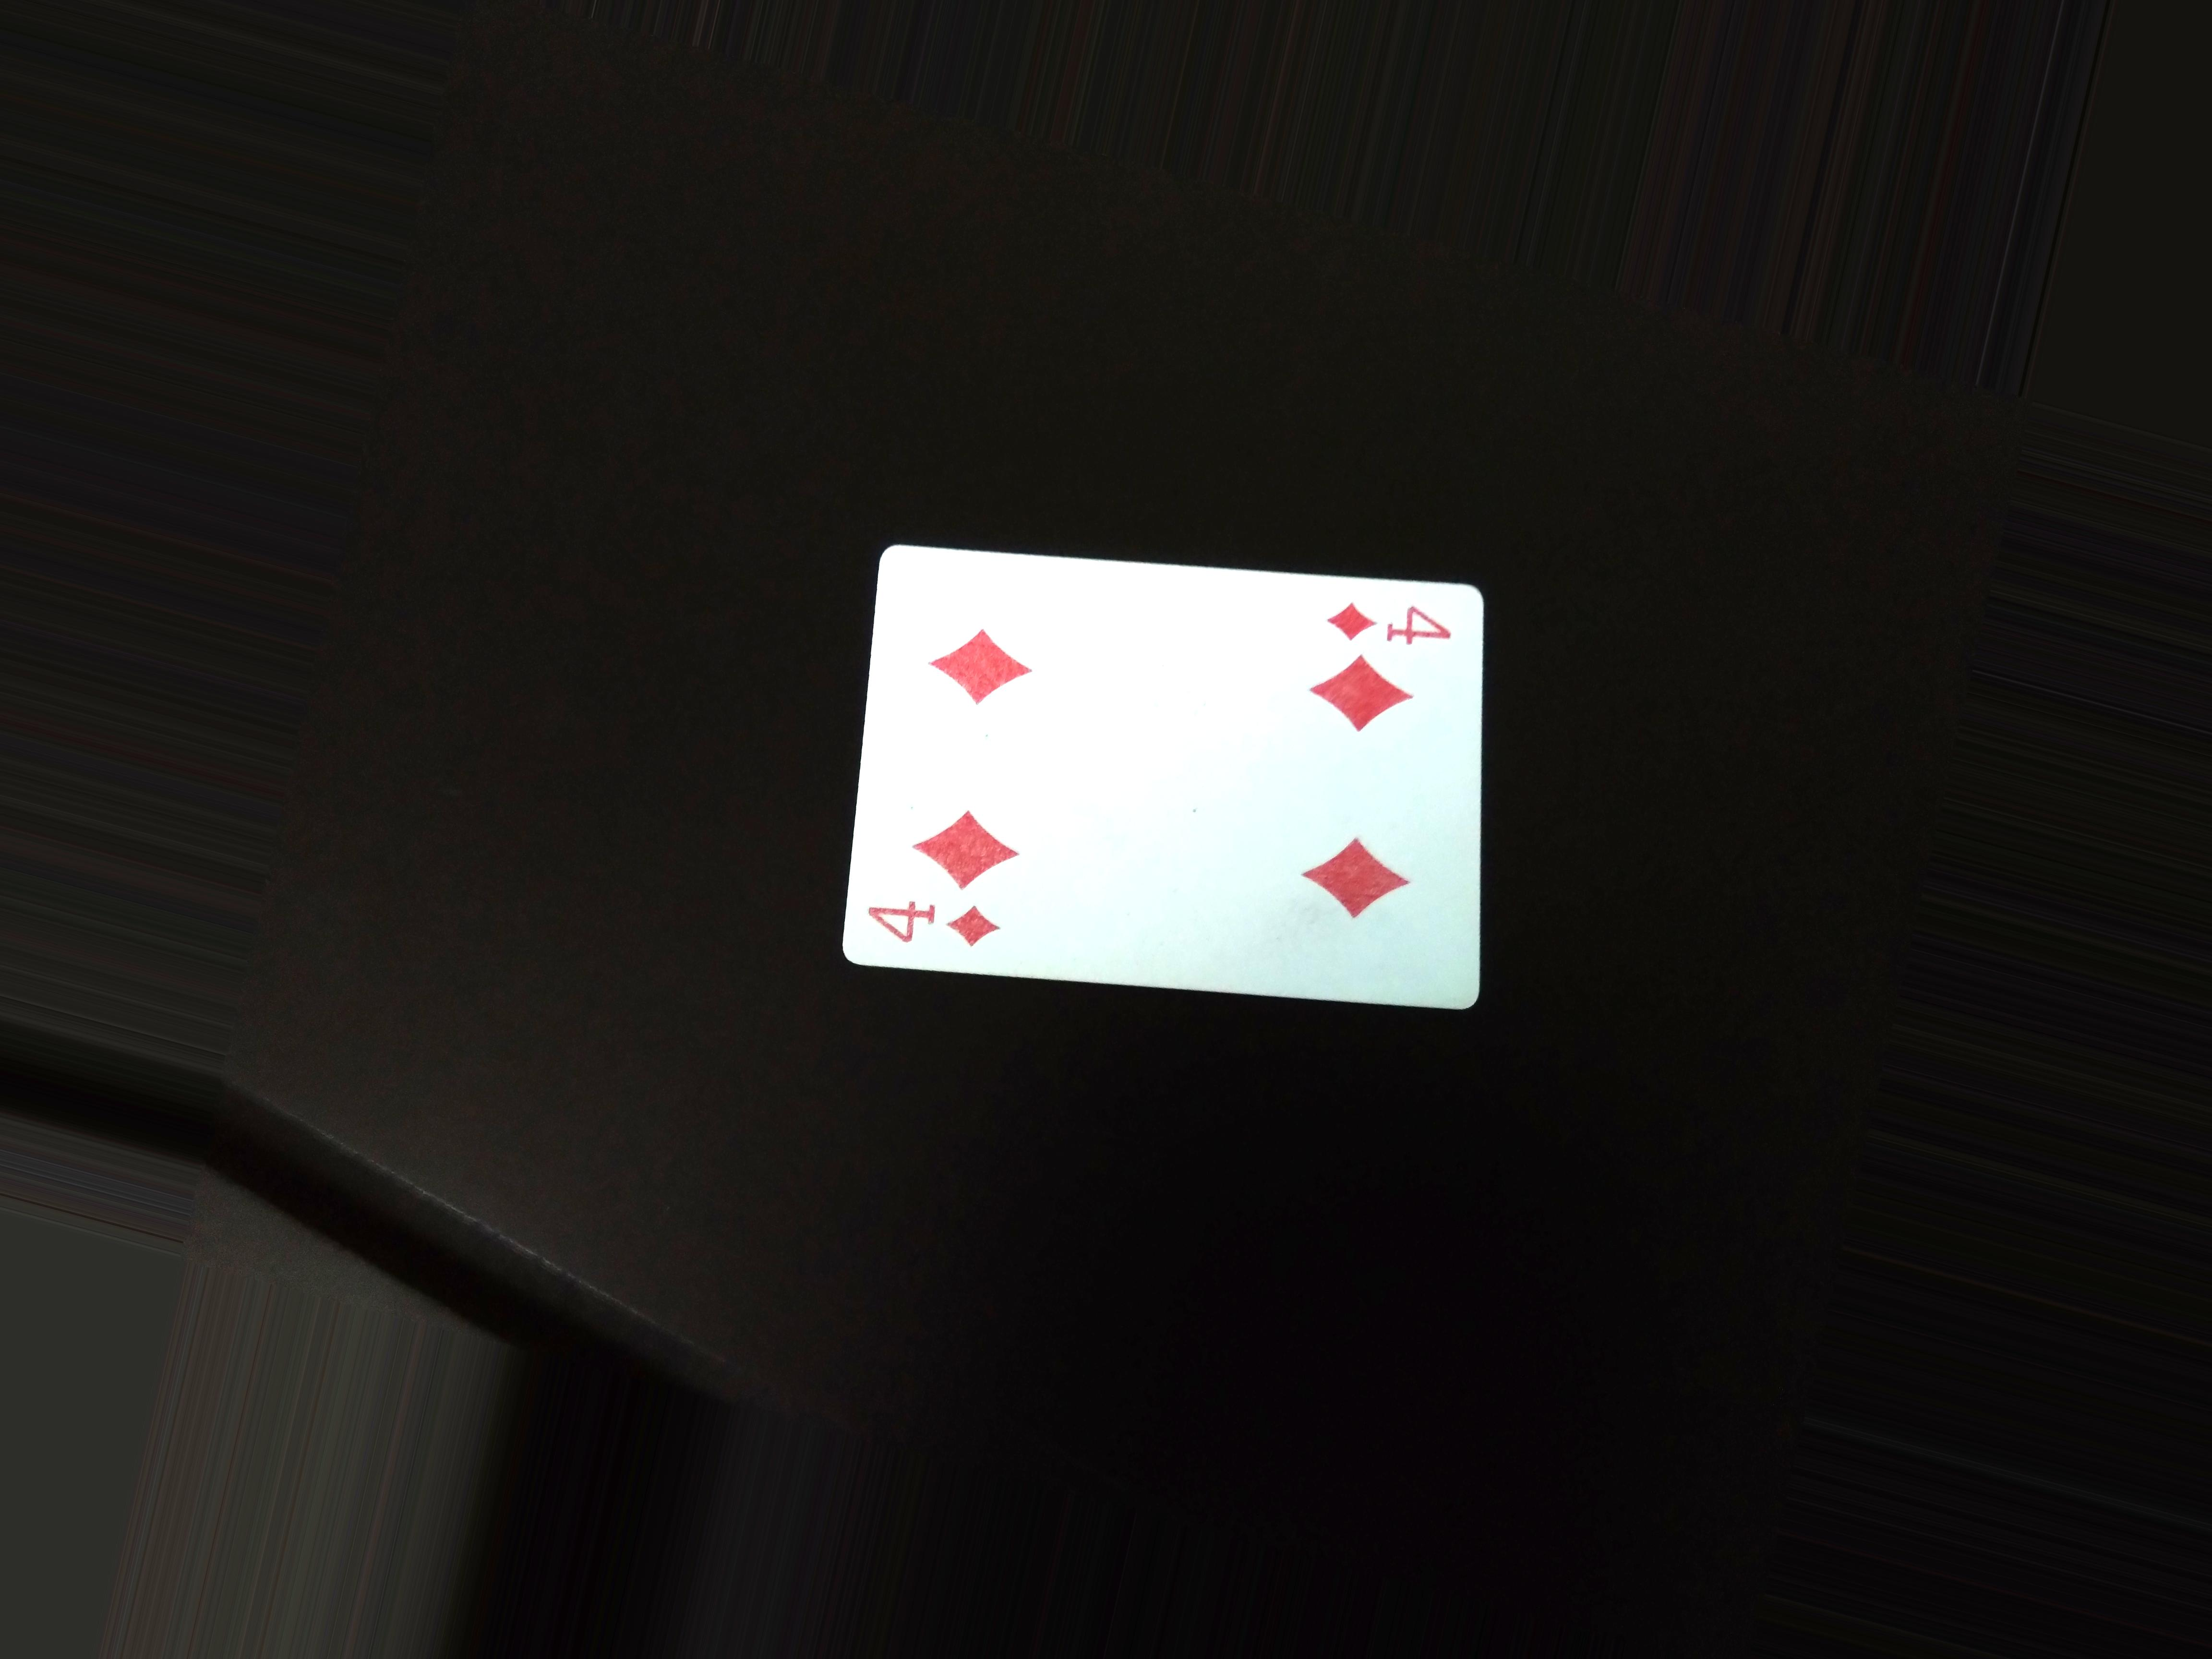4D: (836, 889, 1050, 951)
